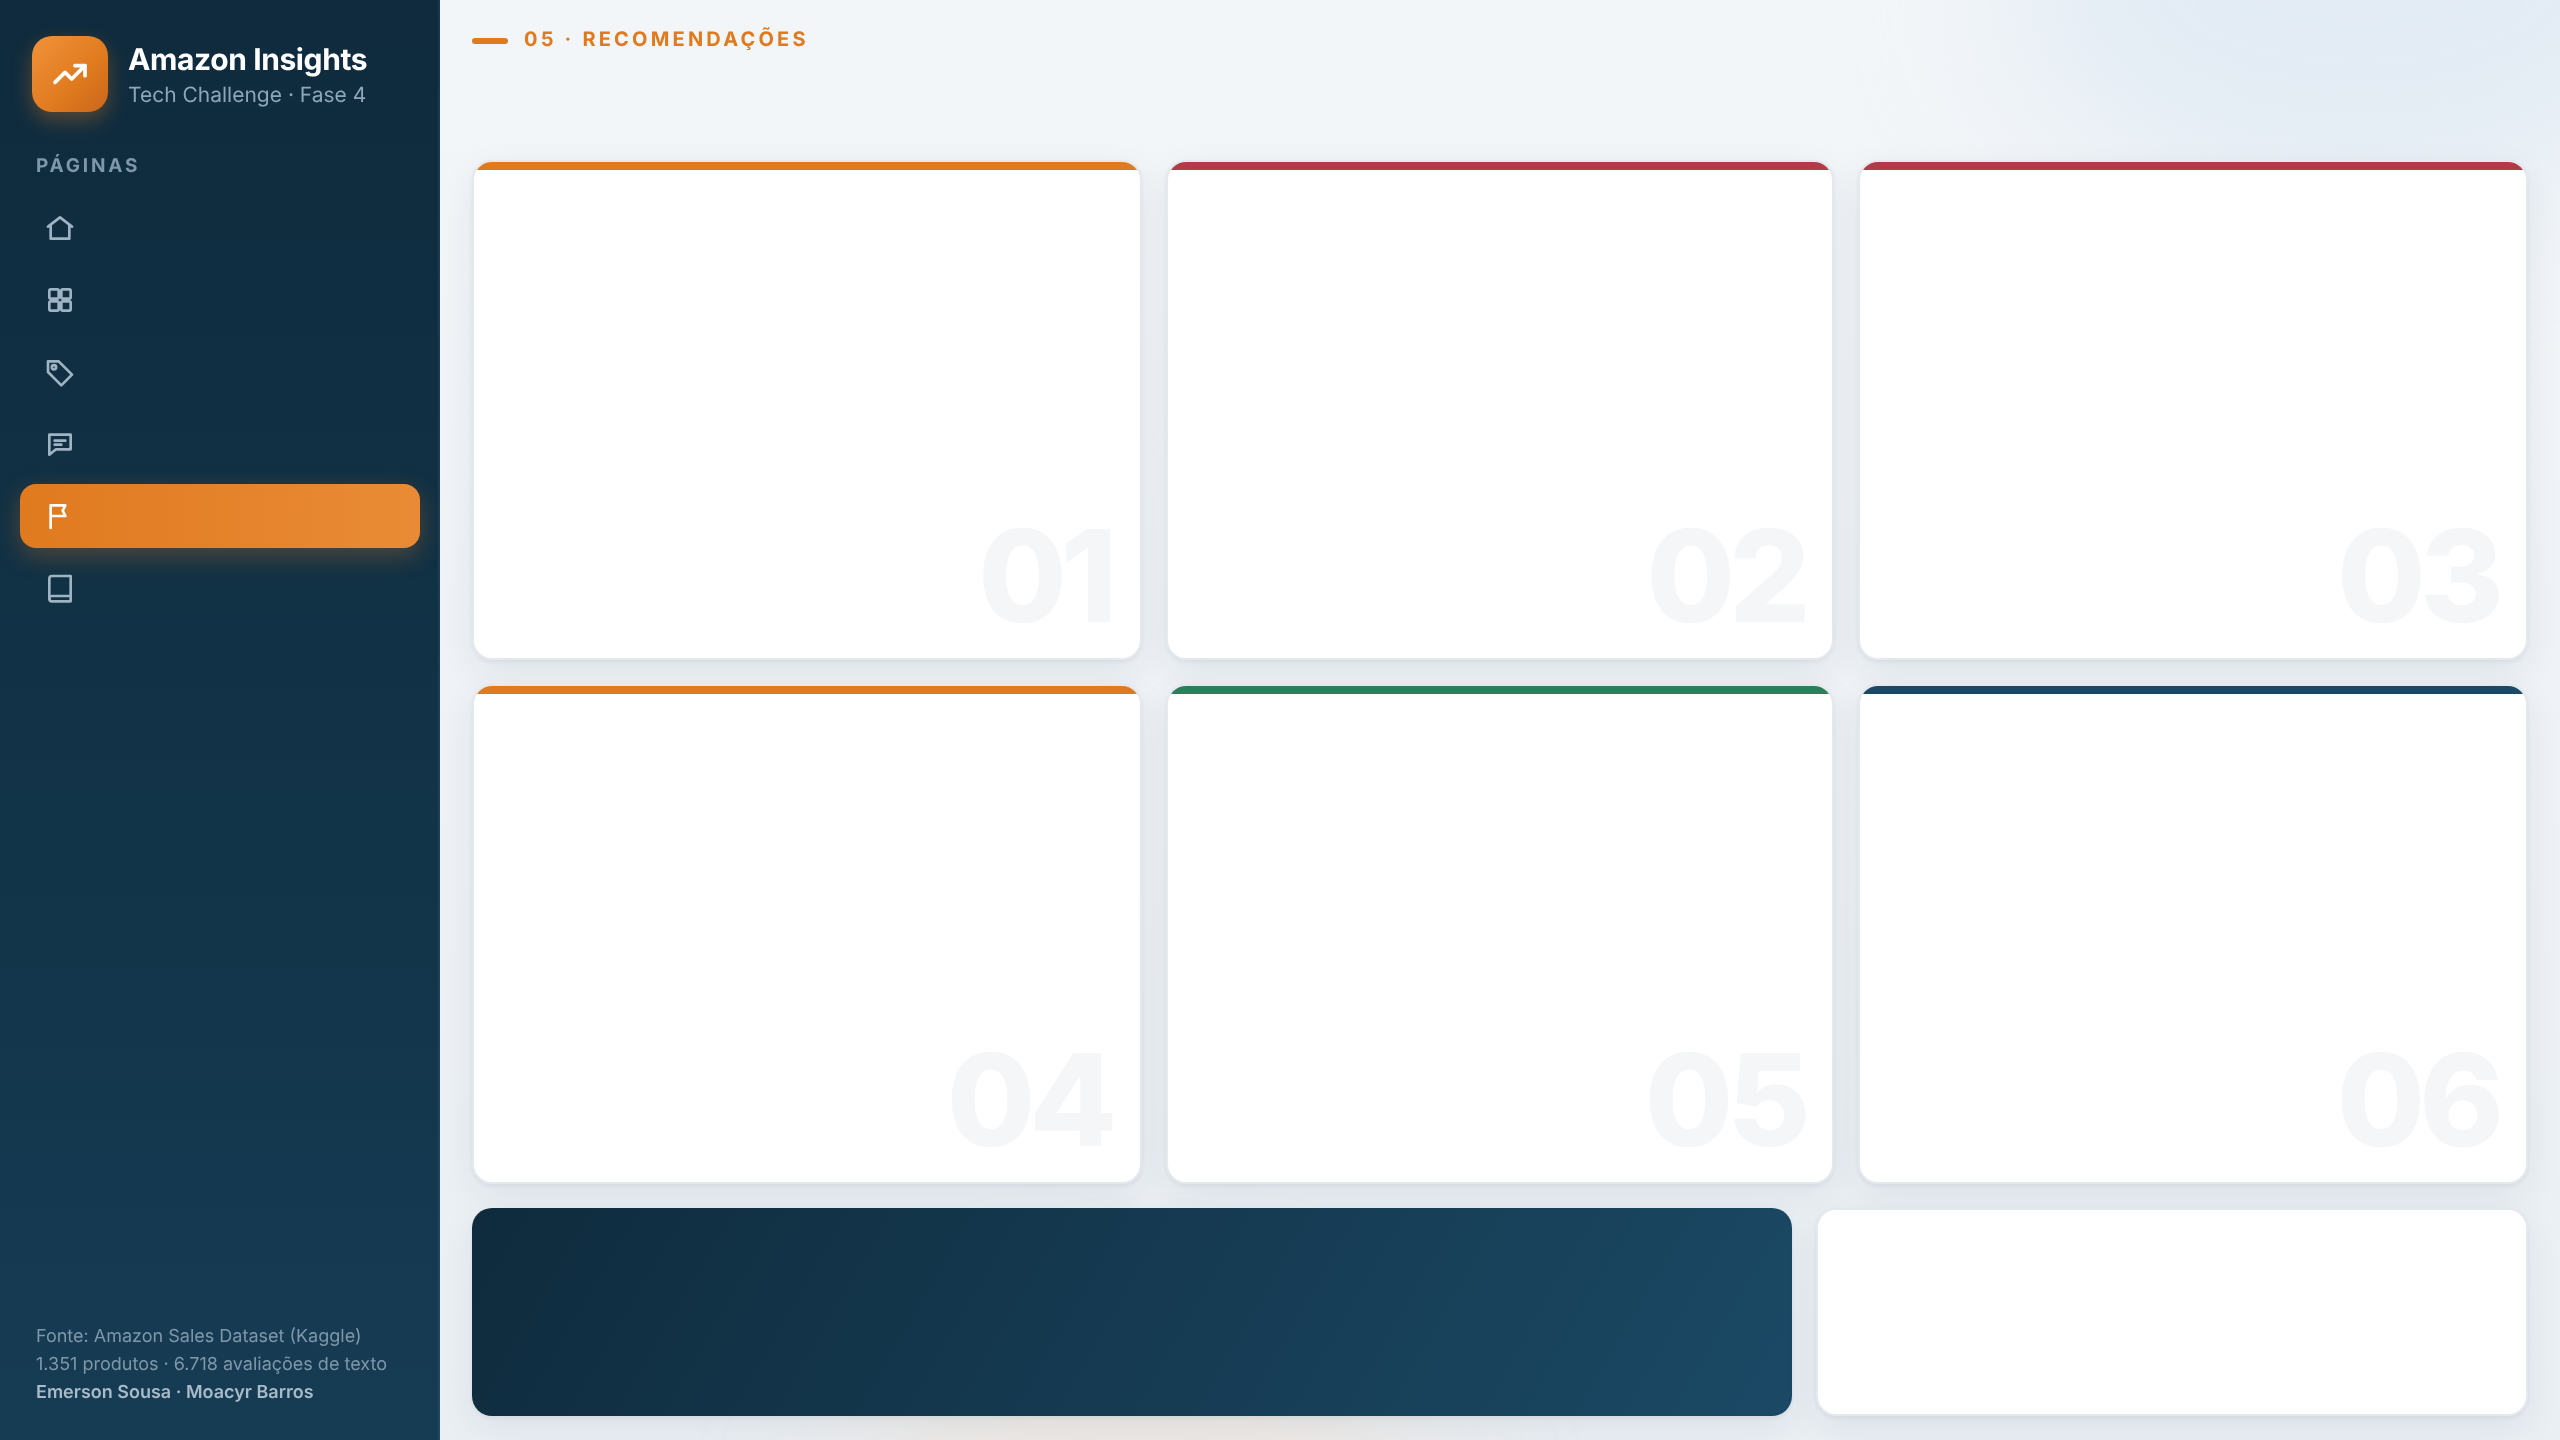

Layout of this report page (visuals, bound fields, positions):
{"tool":"powerbi","page":{"name":"5. Recomendações","canvas":[1280,720],"ordinal":4},"visuals":[{"type":"textbox","box":[228,26,1044,44],"z":0},{"type":"textbox","box":[242,90,322.7,236],"z":1000},{"type":"textbox","box":[588.7,90,322.7,236],"z":2000},{"type":"textbox","box":[935.3,90,322.7,236],"z":3000},{"type":"textbox","box":[242,352,322.7,236],"z":4000},{"type":"textbox","box":[588.7,352,322.7,236],"z":5000},{"type":"textbox","box":[935.3,352,322.7,236],"z":6000},{"type":"textbox","box":[244,610,644,94],"z":7000},{"type":"textbox","box":[916,610,340,94],"z":8000},{"type":"actionButton","box":[44,98,166,32],"z":9000},{"type":"actionButton","box":[44,134,166,32],"z":10000},{"type":"actionButton","box":[44,170,166,32],"z":11000},{"type":"actionButton","box":[44,206,166,32],"z":12000},{"type":"actionButton","box":[44,242,166,32],"z":13000},{"type":"actionButton","box":[44,278,166,32],"z":14000}]}

Visuals, with their boxes on the page's 1280x720 design canvas (x1, y1, x2, y2). These are canvas units, not pixel positions in the 2560x1440 screenshot, which may show the page scaled, cropped or inside an application window:
textbox: [228,26,1272,70]
textbox: [242,90,565,326]
textbox: [589,90,911,326]
textbox: [935,90,1258,326]
textbox: [242,352,565,588]
textbox: [589,352,911,588]
textbox: [935,352,1258,588]
textbox: [244,610,888,704]
textbox: [916,610,1256,704]
actionButton: [44,98,210,130]
actionButton: [44,134,210,166]
actionButton: [44,170,210,202]
actionButton: [44,206,210,238]
actionButton: [44,242,210,274]
actionButton: [44,278,210,310]
